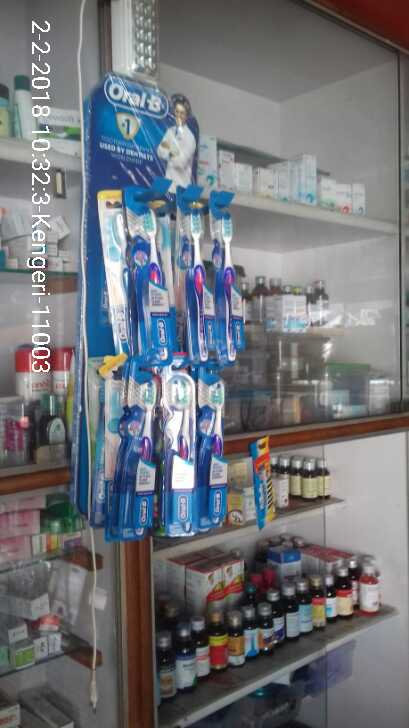beauty: (250, 439, 283, 526)
pharmacy: (123, 188, 175, 364), (174, 183, 210, 364), (121, 362, 159, 531), (158, 368, 195, 535), (208, 192, 242, 362), (195, 374, 229, 530)
